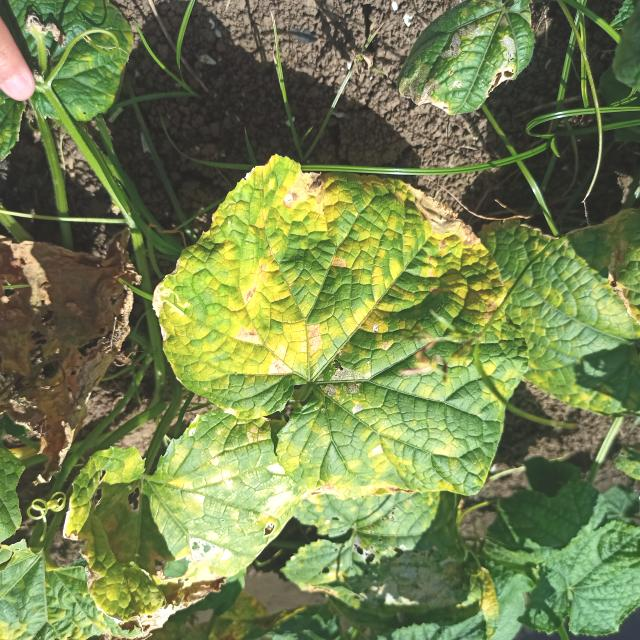disease_cucumber: (158, 158, 523, 500), (115, 407, 326, 591)
